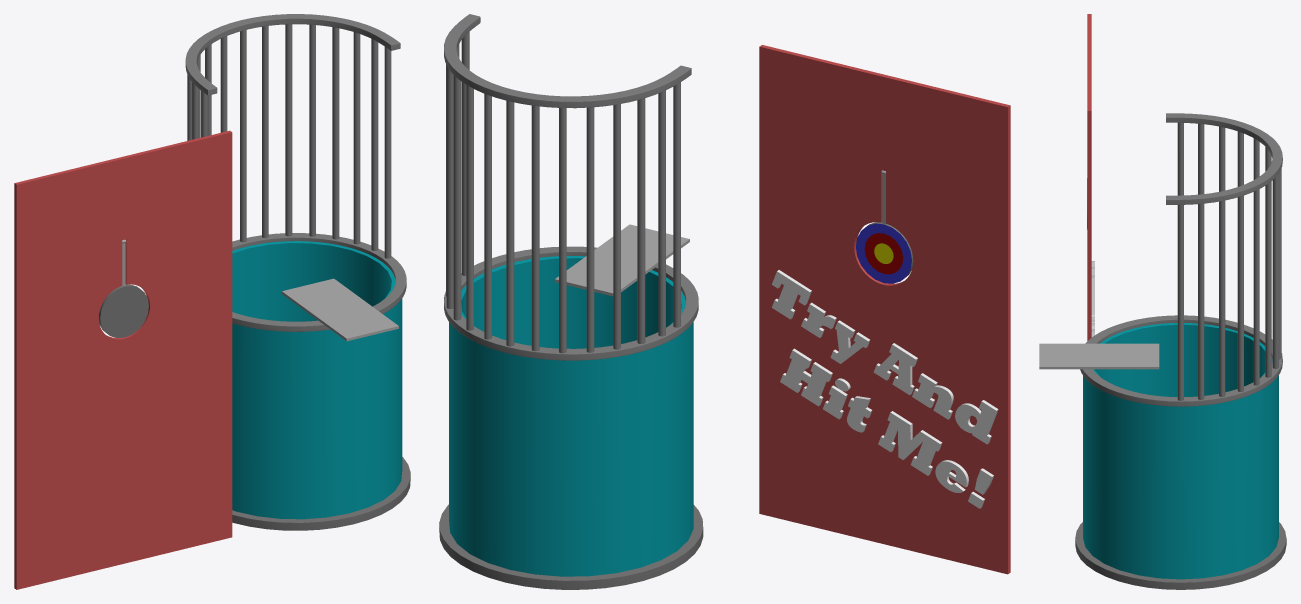
The model's file is Dunk_tank.fbx.
3 renders of one model, left to right at view 1: azimuth 30°, elevation 25°; view 2: azimuth 150°, elevation 25°; view 3: azimuth 270°, elevation 25°, orthographic. The views are drawn at different scales.
Parts seen in each view (by area): view 1: Board1, Dunk_tank, Seat_Board, Target; view 2: Board1, Dunk_tank, Seat_Board, Target; view 3: Dunk_tank, Seat_Board, Board1.
Part boxes in pixels (left/top/right/bottom): Board1: left=14, top=130, right=232, bottom=589; Dunk_tank: left=185, top=14, right=410, bottom=530; Seat_Board: left=282, top=278, right=398, bottom=341; Target: left=98, top=239, right=148, bottom=338; Board1: left=759, top=45, right=1010, bottom=574; Dunk_tank: left=439, top=14, right=703, bottom=589; Seat_Board: left=554, top=224, right=689, bottom=296; Target: left=856, top=170, right=913, bottom=283; Dunk_tank: left=1075, top=113, right=1286, bottom=589; Seat_Board: left=1039, top=343, right=1159, bottom=369; Board1: left=1087, top=14, right=1094, bottom=340.
Bounding box in the file's own units: 9.67 × 9.08 × 5.23.
